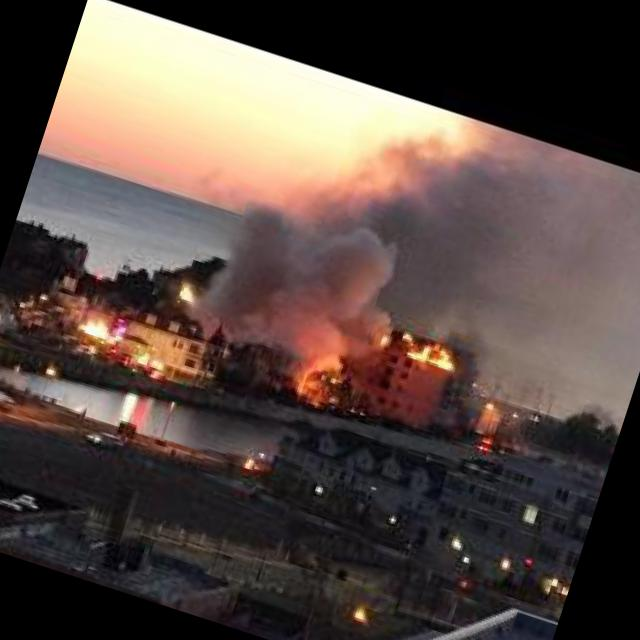fire: (378, 310, 478, 380), (75, 312, 132, 348), (172, 277, 198, 302)
smoke: (289, 80, 640, 394), (196, 173, 427, 383)
